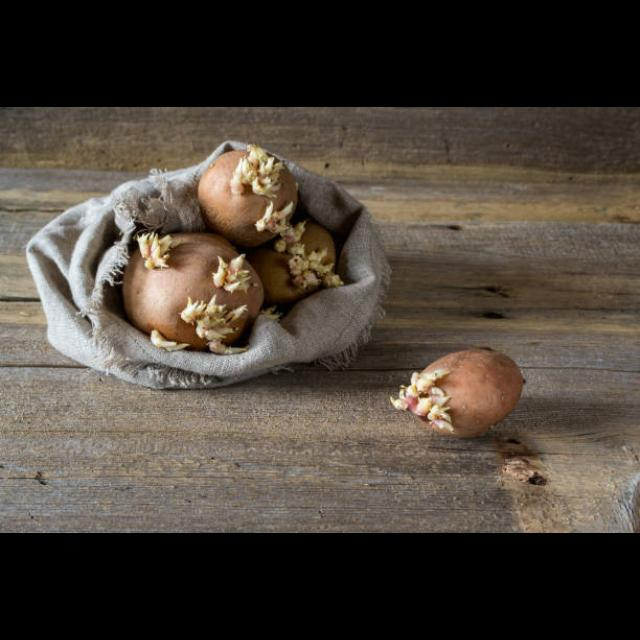Sprouted potato: (102, 215, 274, 352), (399, 337, 525, 445), (202, 134, 290, 246), (247, 200, 343, 300)
